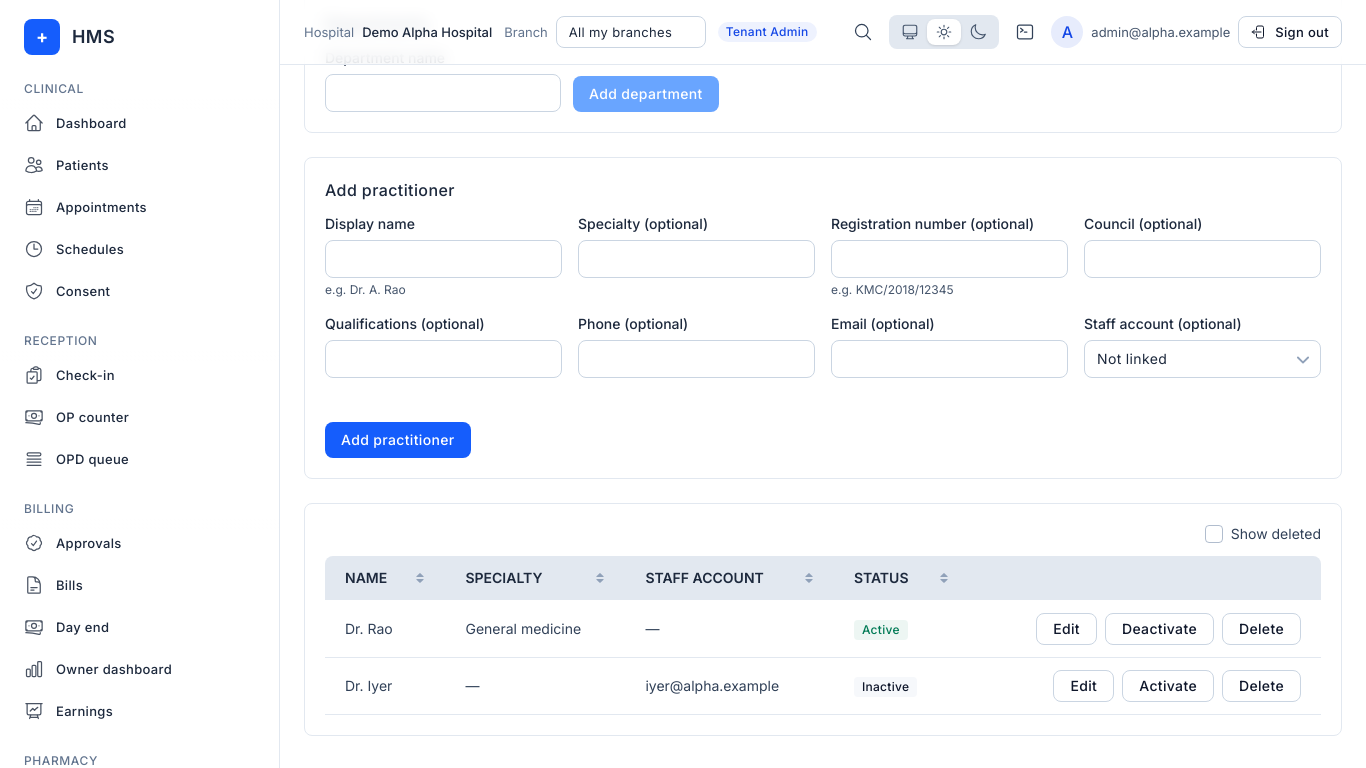
Test: Practitioners admin › restores a deleted practitioner
(page scrolled)
Step 1. Click the checkbox labelled "Show deleted" → [1214, 534], box left=1205, top=525, right=1223, bottom=543
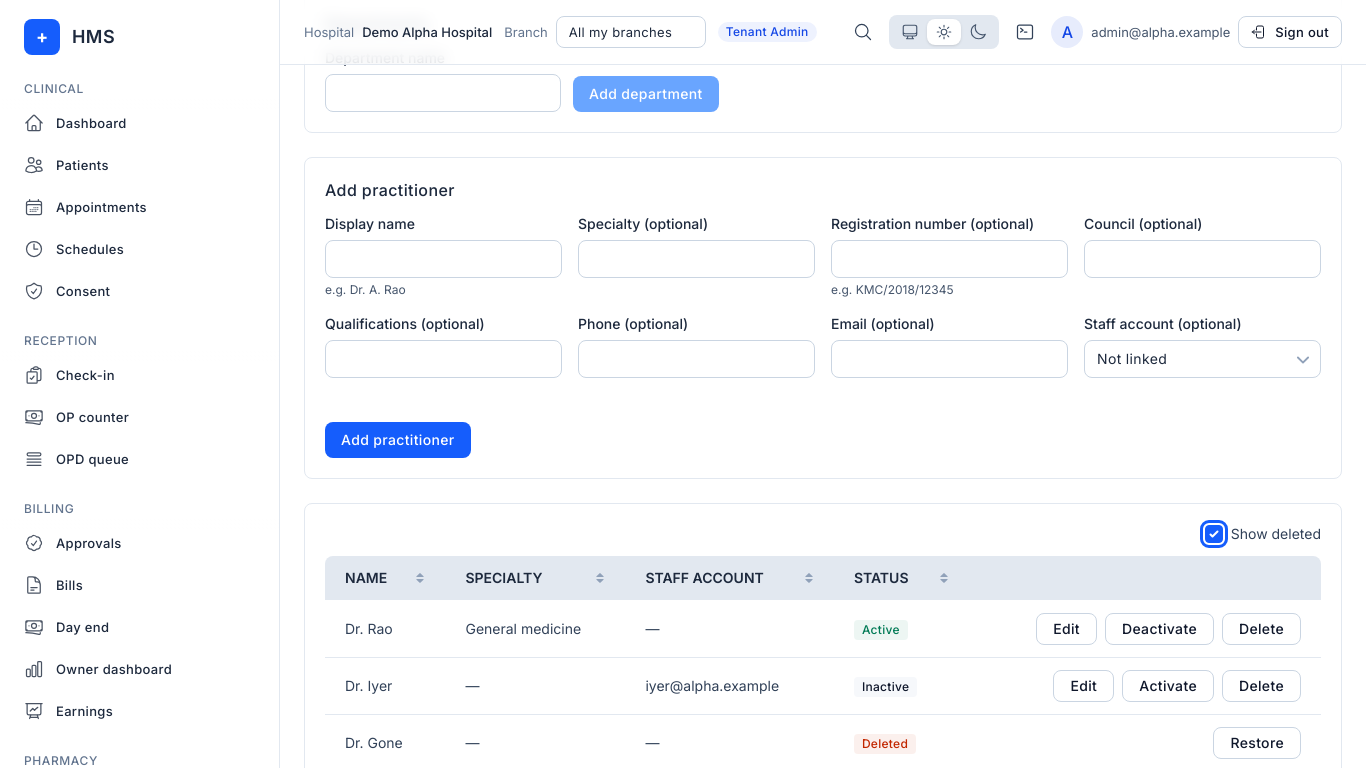
Step 2. Click the button with aria-label "Restore Dr. Gone" → [1257, 743], box left=1214, top=727, right=1301, bottom=759
(page scrolled)
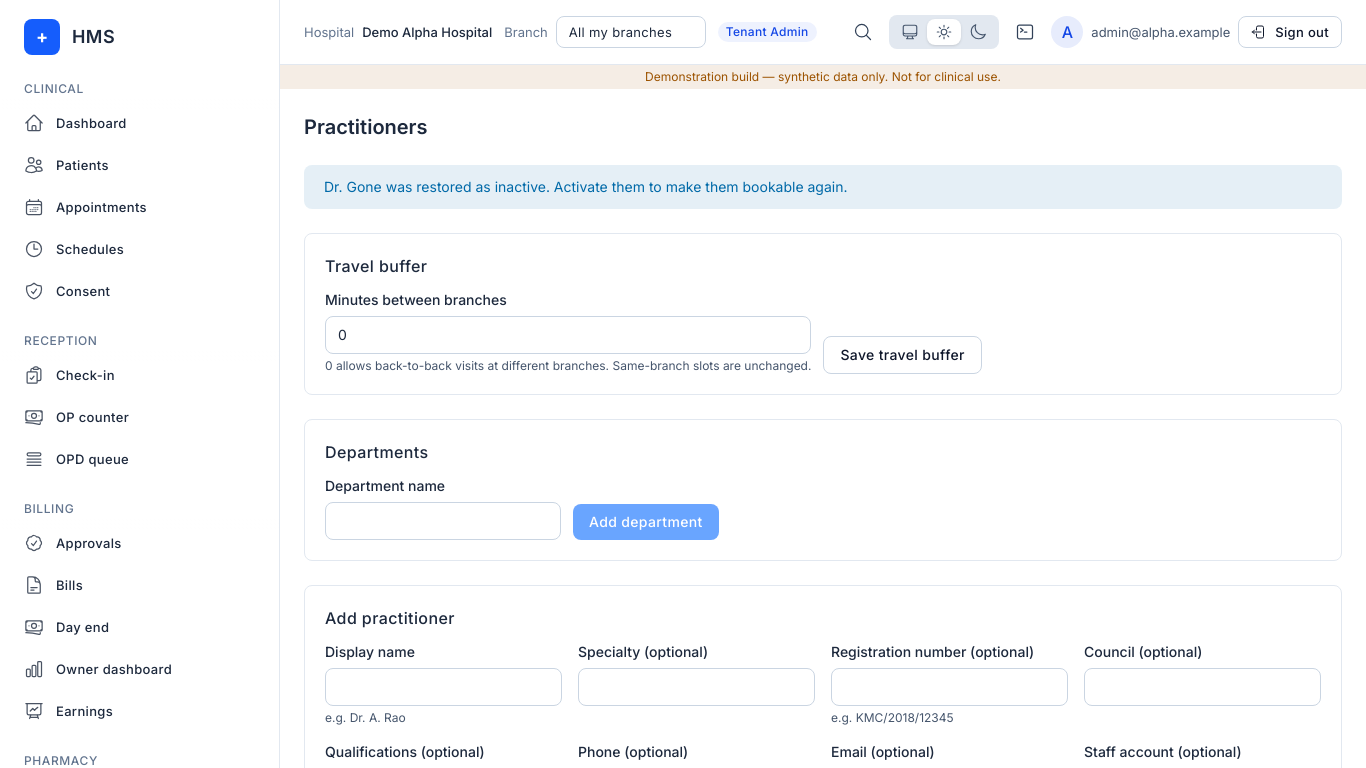
Expected: the text "Dr. Gone was restored as inactive. Activate them to make them bookable again." is shown, left=304, top=165, right=1342, bottom=209
